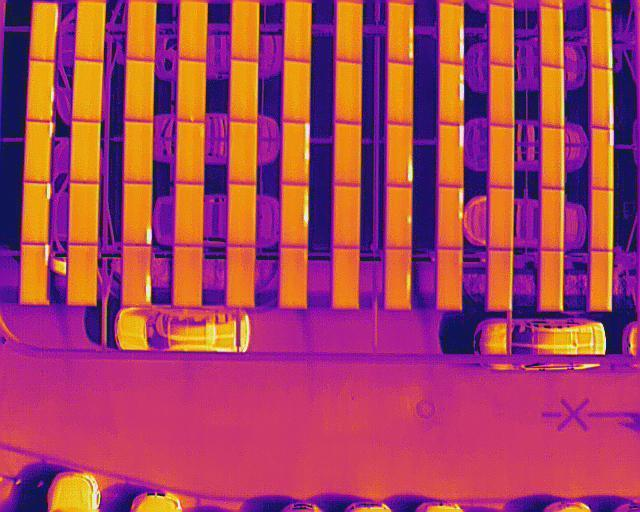Cell: (387, 186, 412, 249)
No-Anomaly: (71, 121, 101, 183), (76, 0, 106, 62), (68, 245, 98, 306), (73, 61, 103, 122), (69, 182, 98, 245), (174, 247, 203, 309), (126, 60, 155, 122), (127, 0, 156, 60), (229, 184, 257, 246), (228, 246, 256, 308), (333, 248, 361, 310), (125, 122, 153, 183), (180, 0, 208, 61), (232, 0, 260, 61), (178, 61, 206, 122), (230, 121, 257, 184), (177, 184, 204, 247), (281, 247, 308, 310), (284, 60, 311, 123), (177, 122, 204, 184), (334, 186, 361, 248), (285, 0, 312, 62), (232, 60, 259, 121), (336, 0, 362, 62), (336, 62, 362, 124), (335, 124, 361, 185), (389, 62, 414, 125), (437, 249, 462, 311), (541, 4, 565, 68), (539, 250, 564, 311), (490, 3, 514, 66), (490, 64, 514, 127), (491, 124, 514, 189), (540, 189, 564, 251), (591, 190, 615, 252), (489, 249, 513, 311), (542, 127, 565, 189), (491, 187, 514, 249), (542, 66, 565, 128), (590, 252, 613, 312)
Unclassified: (24, 121, 53, 183), (124, 183, 153, 245), (23, 181, 51, 244), (21, 244, 49, 306), (124, 245, 152, 307), (30, 0, 58, 61), (283, 122, 310, 185), (388, 125, 415, 187), (282, 185, 309, 247), (28, 60, 55, 122), (437, 188, 464, 249), (385, 249, 412, 310), (439, 2, 465, 65), (439, 62, 465, 125), (439, 126, 465, 188), (390, 1, 415, 65), (590, 67, 615, 131), (590, 5, 613, 70), (592, 129, 615, 191)
